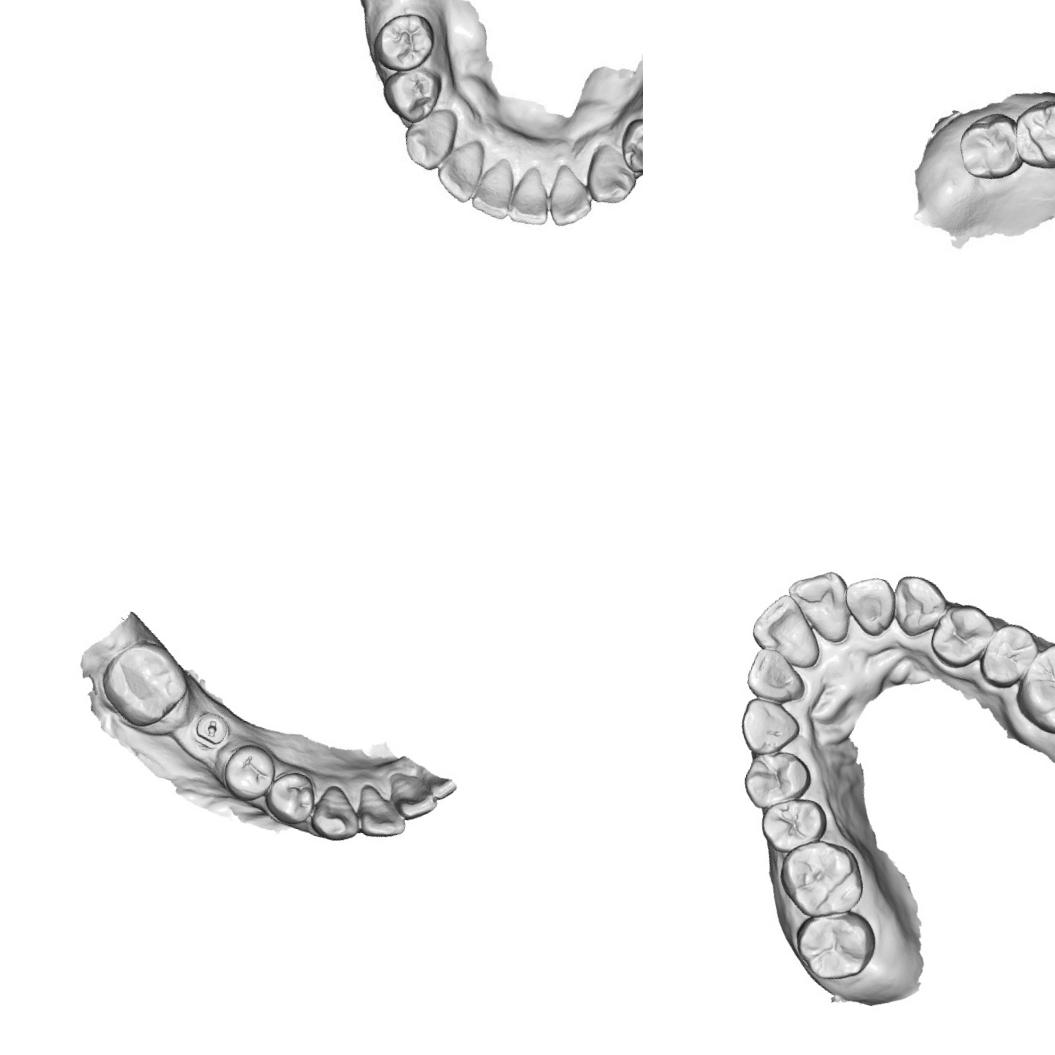canine: (884, 568, 954, 643), (732, 693, 804, 764), (306, 780, 368, 846), (585, 141, 640, 204), (401, 109, 455, 172)
implant_minus: (189, 708, 231, 751)
incisor: (776, 559, 864, 647), (744, 586, 832, 672), (834, 568, 903, 640), (742, 643, 814, 709), (350, 779, 414, 844), (431, 134, 489, 202), (543, 164, 600, 230), (381, 769, 442, 826), (466, 155, 520, 218), (505, 164, 558, 226)
molar: (92, 630, 198, 737), (768, 830, 873, 929), (786, 896, 883, 990), (947, 103, 1036, 189), (1007, 634, 1055, 744), (1002, 89, 1055, 178)
premolar: (736, 742, 818, 820), (924, 596, 1000, 676), (753, 788, 832, 862), (973, 618, 1043, 696), (216, 737, 280, 808), (258, 764, 322, 830), (371, 10, 437, 72), (378, 64, 441, 124), (623, 115, 643, 173)
